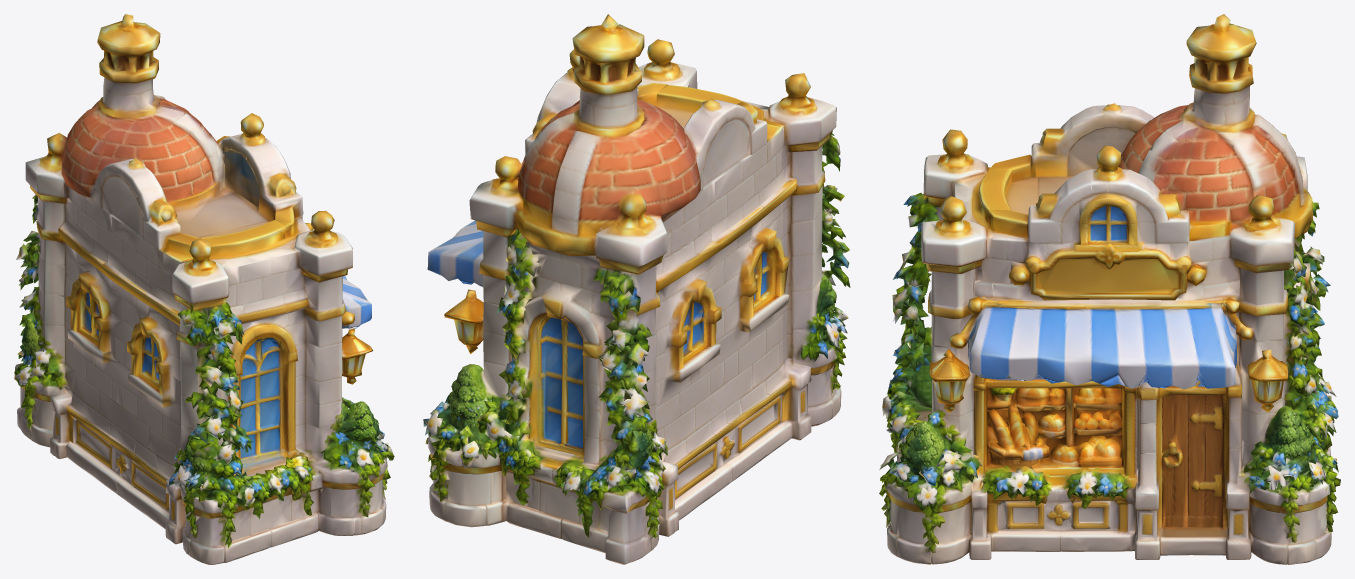
The model's file is HaloShop_Bakery_HD_src.glb.
The picture shows the model from 3 angles, left to right: view 1: azimuth 30°, elevation 25°; view 2: azimuth 150°, elevation 25°; view 3: azimuth 270°, elevation 25°; orthographic projection. The views are drawn at different scales.
Visible parts, largest first — view 1: tripo_node_45bcfdc0-dcdd-4b7f-ba33-8689fb7e1372; view 2: tripo_node_45bcfdc0-dcdd-4b7f-ba33-8689fb7e1372; view 3: tripo_node_45bcfdc0-dcdd-4b7f-ba33-8689fb7e1372.
Part boxes in pixels (x1,y1,x2,y2): tripo_node_45bcfdc0-dcdd-4b7f-ba33-8689fb7e1372: (14,14,394,564); tripo_node_45bcfdc0-dcdd-4b7f-ba33-8689fb7e1372: (423,14,850,564); tripo_node_45bcfdc0-dcdd-4b7f-ba33-8689fb7e1372: (879,14,1340,564).
Bounding box in the file's own units: 0.5458 × 0.981 × 0.8481.
1 material, 1 textured.
